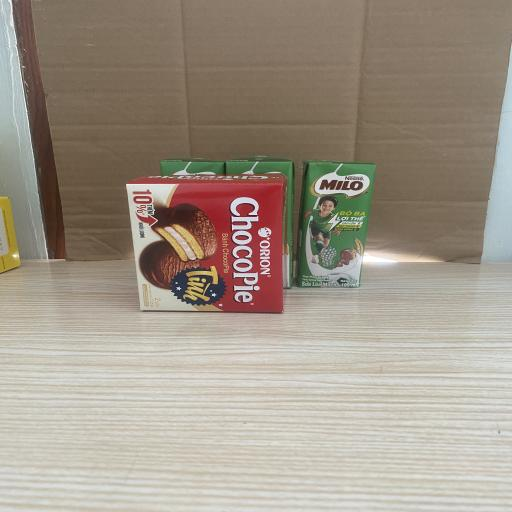chocopie: (126, 172, 286, 312)
milo: (296, 160, 376, 287), (226, 157, 295, 288), (160, 158, 226, 174)
